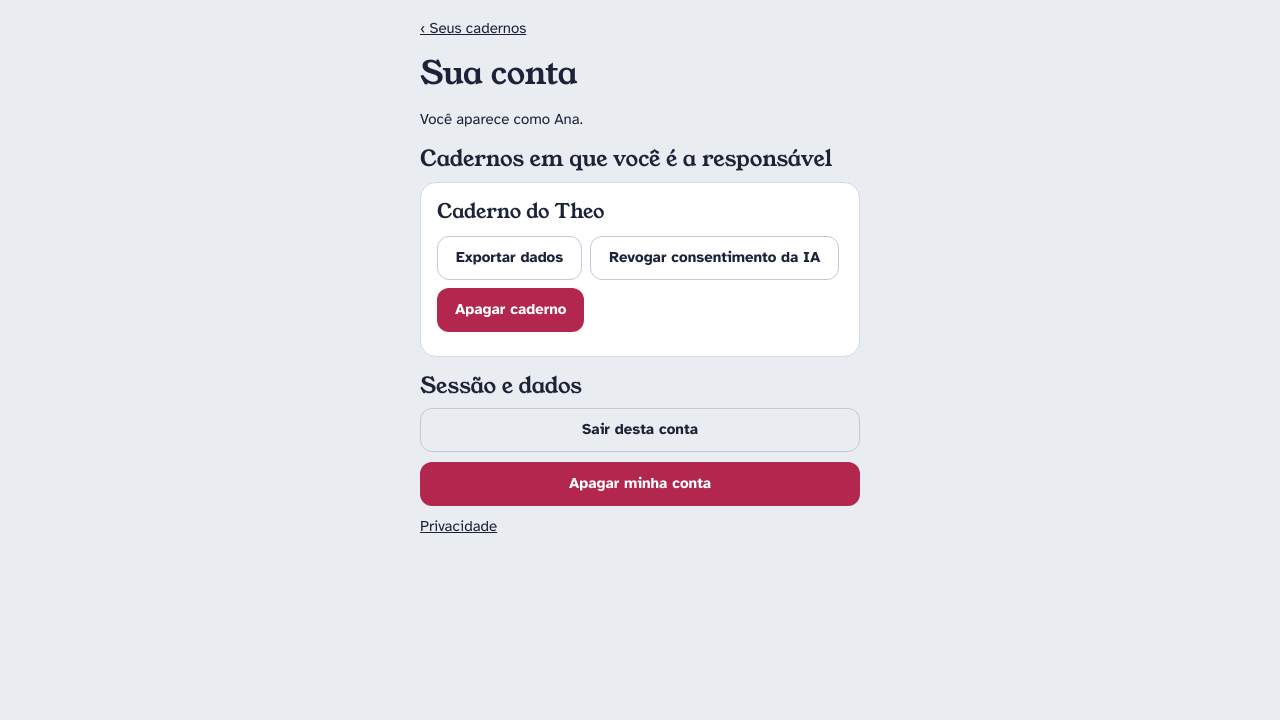
Test case: erro dona_de_caderno mostra a frase e não navega
The width and height of the screenshot is (1280, 720).
Click the button "Apagar minha conta" at (640, 484), box 420,462 -> 860,506
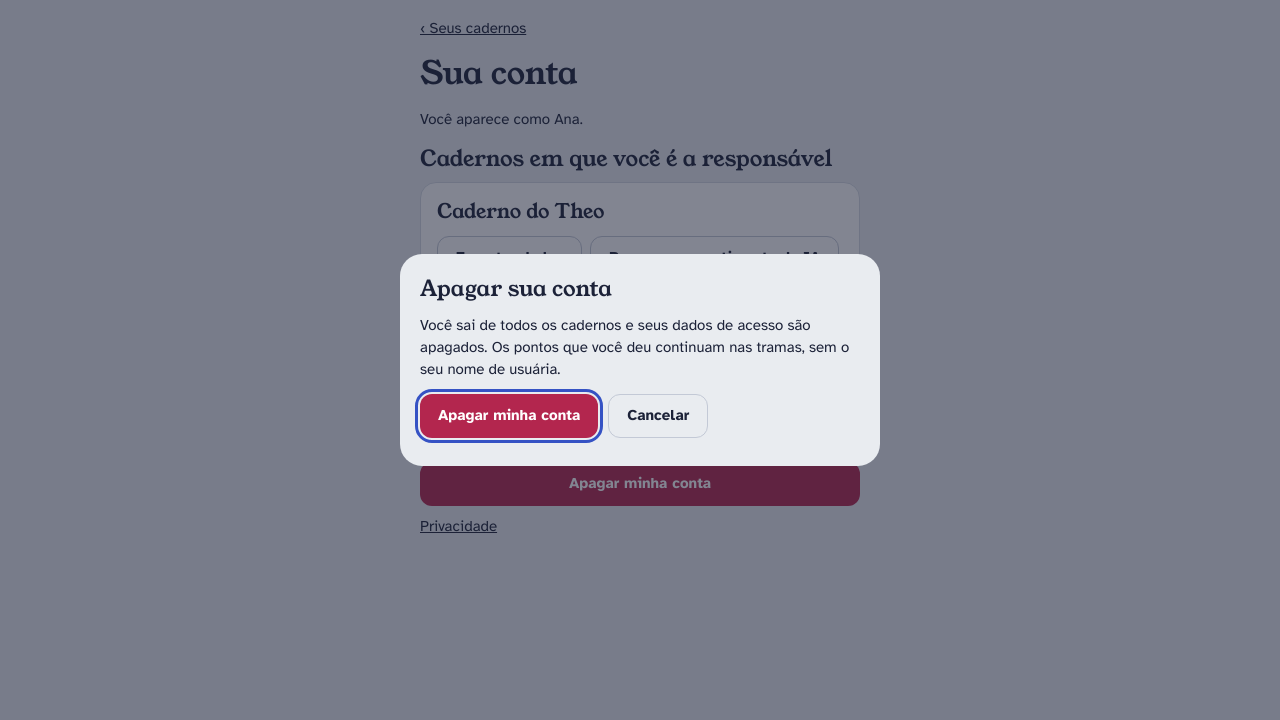
Click the button "Apagar minha conta" at (509, 416), box 420,394 -> 598,438
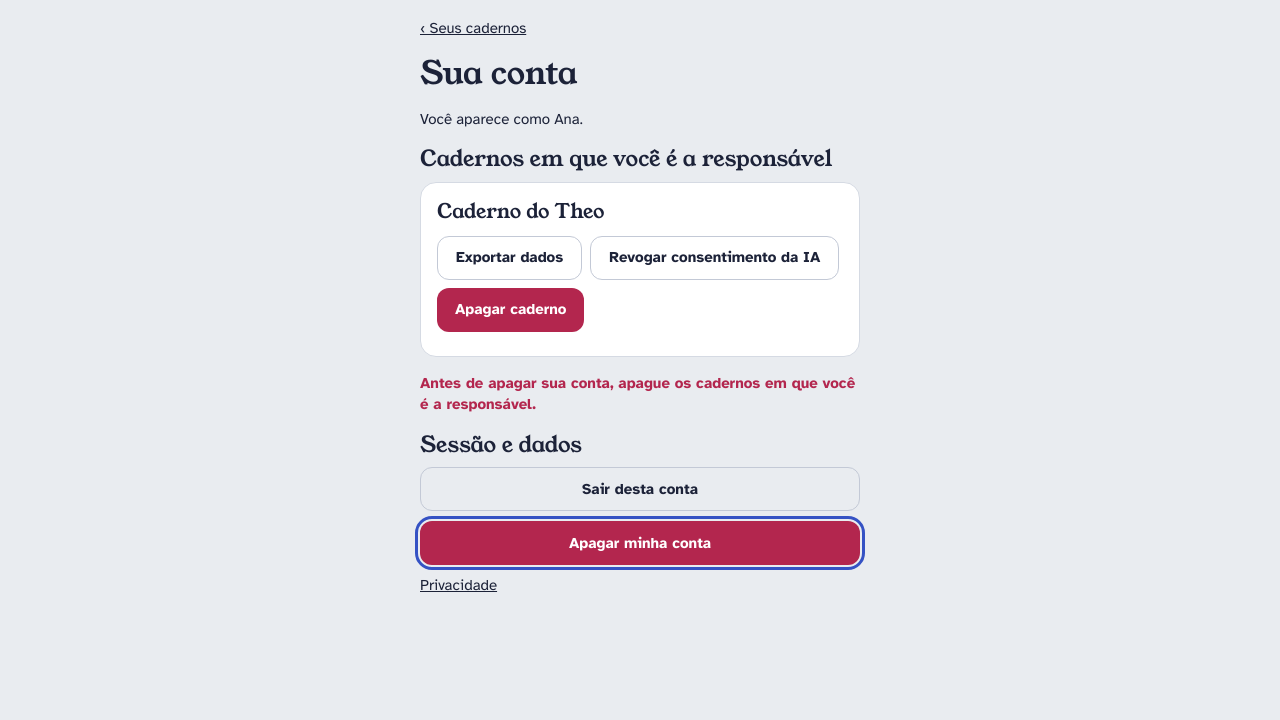
Expected: the text "Antes de apagar sua conta, apague os cadernos em que você é a responsável." is shown, 420,373 -> 860,416
